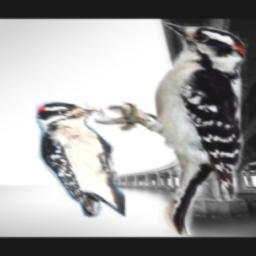Woodpecker: (95, 19, 249, 235), (36, 102, 125, 218)
